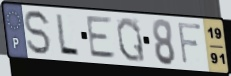8: (150, 17, 177, 67)
E: (85, 15, 119, 60)
F: (176, 20, 203, 66)
L: (54, 12, 81, 58)
Q: (115, 16, 147, 64)
S: (23, 9, 53, 57)
